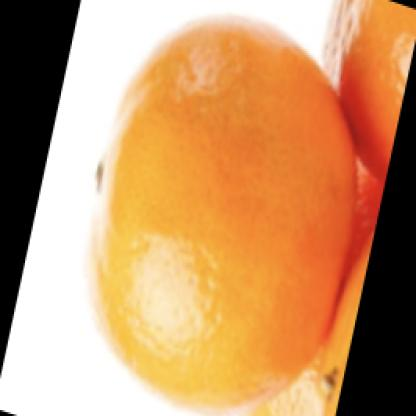fresh: (98, 21, 361, 414)
